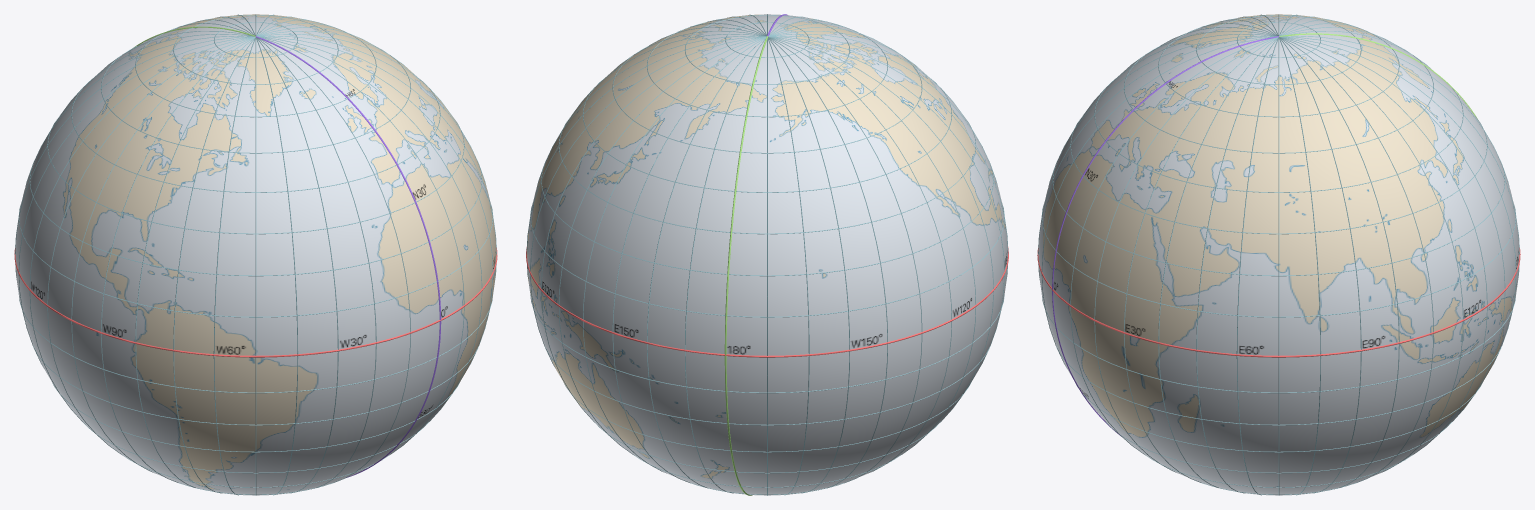
Rendered from asset.gltf.
3 renders of one model, left to right at view 1: azimuth 30°, elevation 25°; view 2: azimuth 150°, elevation 25°; view 3: azimuth 270°, elevation 25°, orthographic.
Parts seen in each view (by area): view 1: Object_6, Object_4, Object_3, Object_5; view 2: Object_6, Object_4, Object_3, Object_2; view 3: Object_6, Object_4, Object_3, Object_5.
Boxes of the visible parts, <box> form: Object_6: <box>15,14,496,495</box>; Object_4: <box>15,14,496,495</box>; Object_3: <box>14,248,497,357</box>; Object_5: <box>255,36,441,477</box>; Object_6: <box>527,14,1007,495</box>; Object_4: <box>526,14,1008,495</box>; Object_3: <box>526,247,1008,357</box>; Object_2: <box>724,36,768,495</box>; Object_6: <box>1038,14,1519,495</box>; Object_4: <box>1038,14,1519,495</box>; Object_3: <box>1037,248,1520,357</box>; Object_5: <box>1052,36,1279,435</box>.
Size of the model in its own units: 0.486 by 0.486 by 0.486.
Materials: 5 (1 with a texture image).
